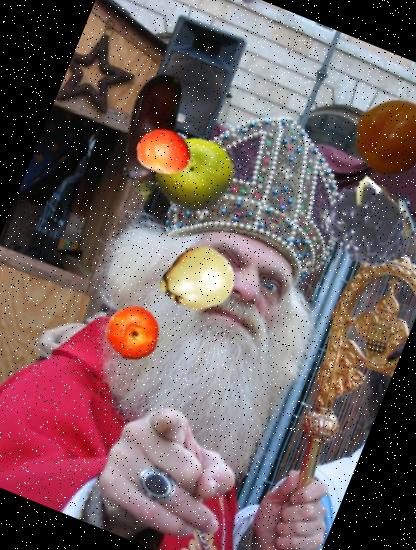Clementine: (127, 114, 202, 188), (96, 298, 169, 371)
Eggplant: (61, 49, 238, 226)
Ginger: (340, 174, 416, 260)
Mulberry: (289, 166, 416, 294)
Pepper: (340, 83, 416, 188)
Pomelo: (142, 122, 246, 226)
Quince: (148, 231, 244, 327)
